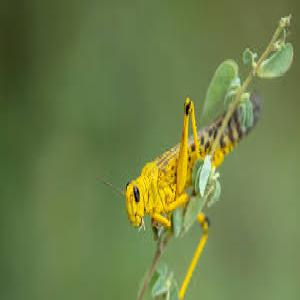locust: (123, 81, 262, 246)
